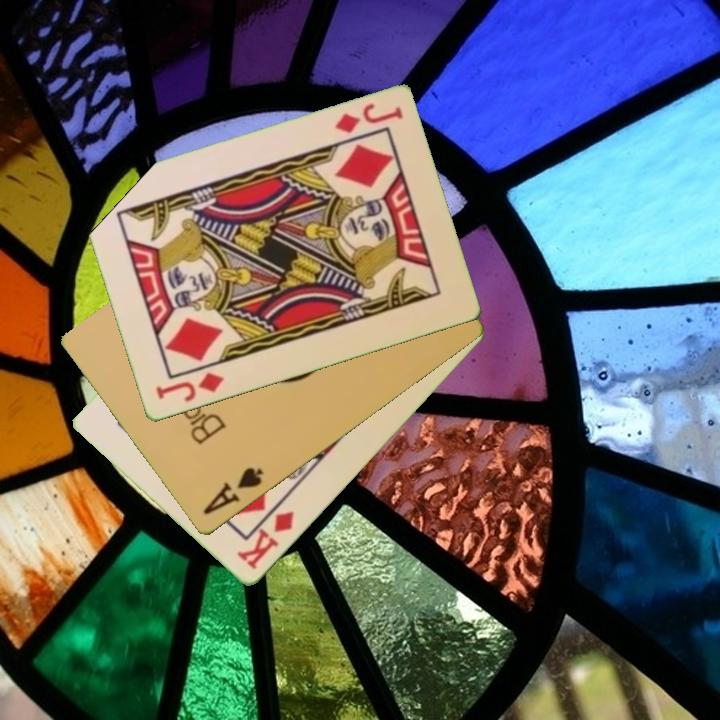As: (199, 464, 267, 518)
Jd: (331, 100, 406, 137), (152, 369, 228, 405)
Kd: (233, 508, 298, 573)
